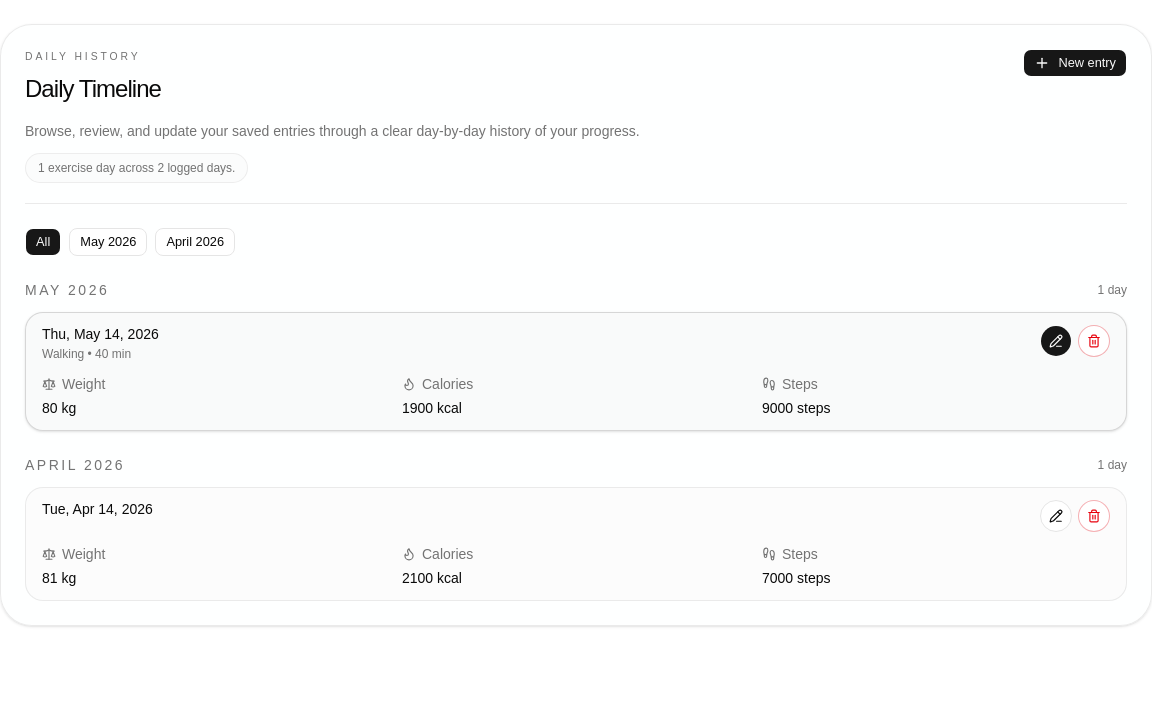
Test: DailyHistoryPage › groups entries by month and supports month filtering
This screenshot has width=1152, height=720.
Expected: the button "All" is shown, [25,228,61,256]
Expected: the button "May 2026" is shown, [69,228,147,256]
Click the button "April 2026": (195, 242) [155,228,235,256]
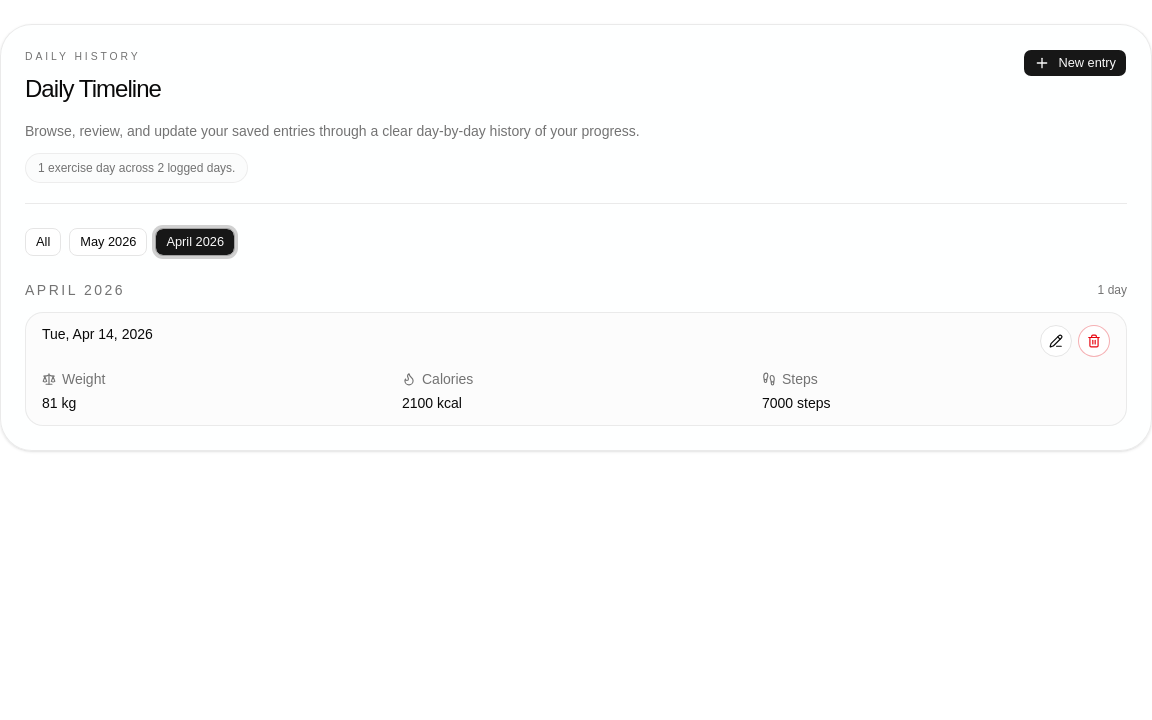
Expected: the text "Tue, Apr 14, 2026" is shown, [42,326,153,342]
Now the button "Thu, May 14, 2026" is gone
